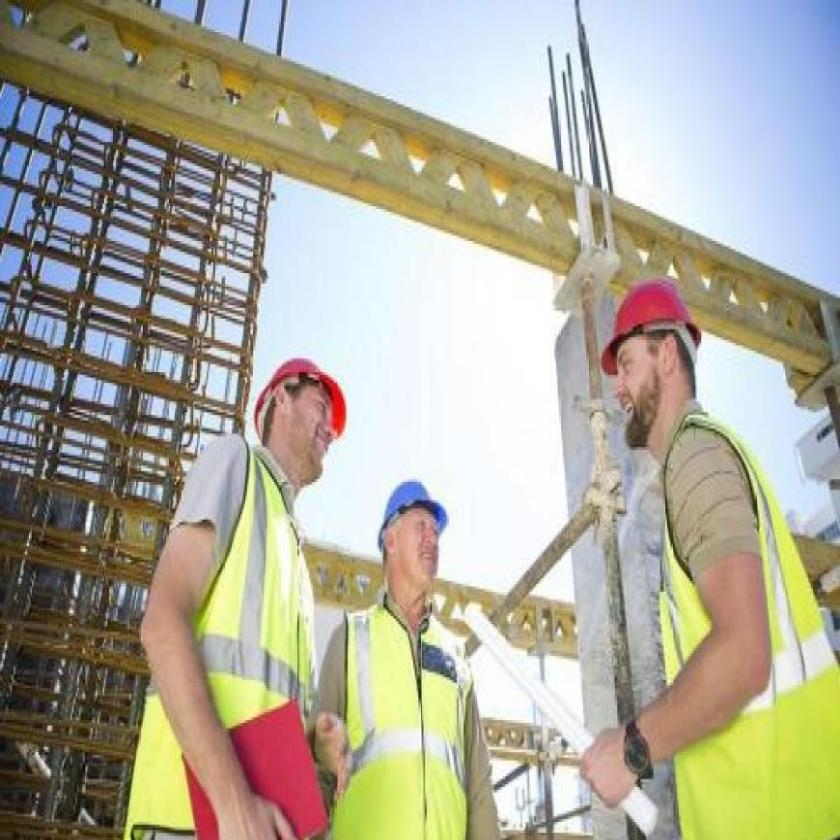Con_casco: (590, 260, 700, 450), (255, 336, 359, 483), (380, 467, 452, 602)
